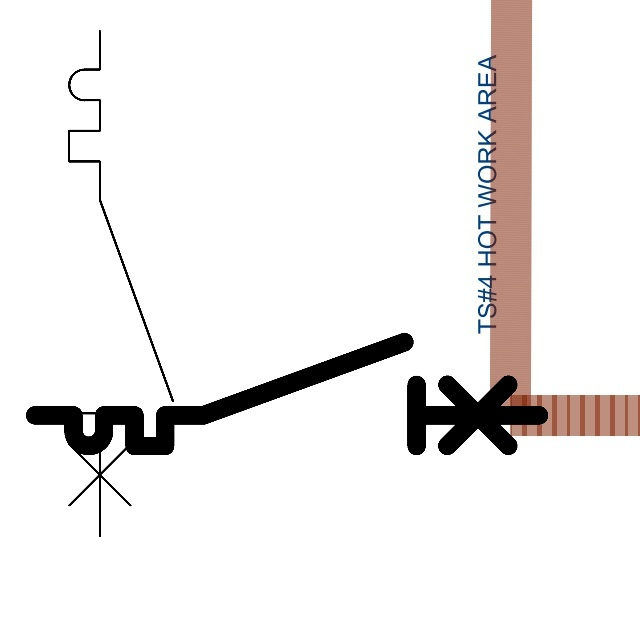interruptor_termomagnetico: (56, 18, 186, 549), (22, 329, 552, 459)
